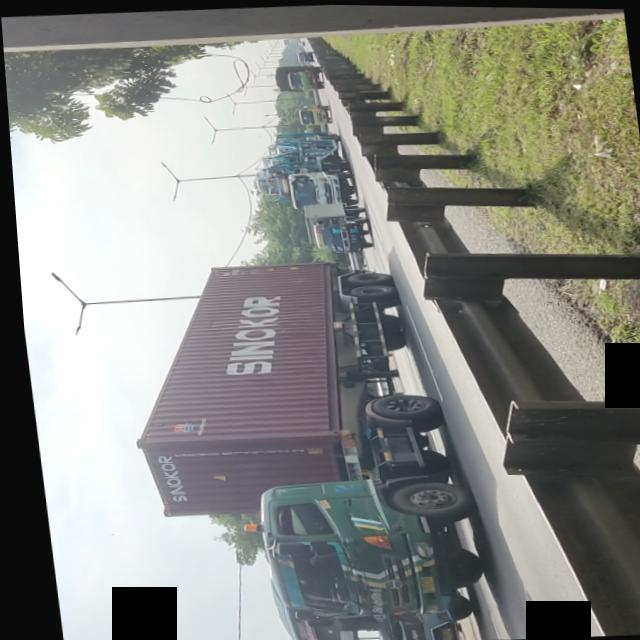Golongan IV: (173, 252, 484, 625)
